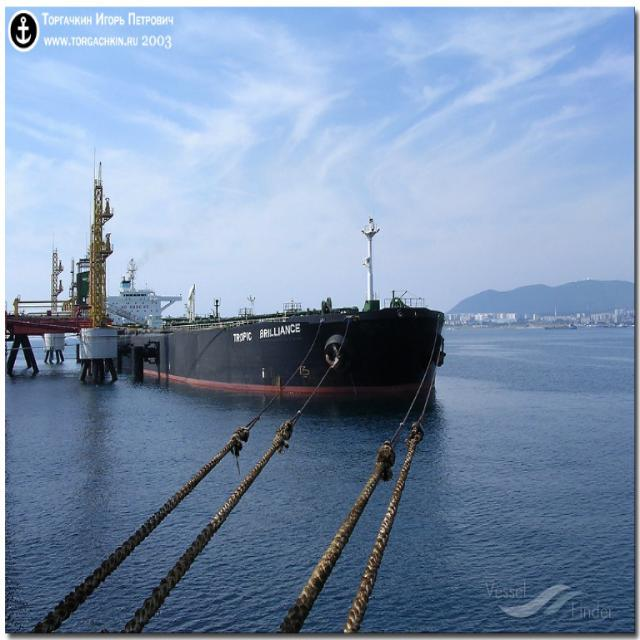OCR: (228, 322, 310, 351)
